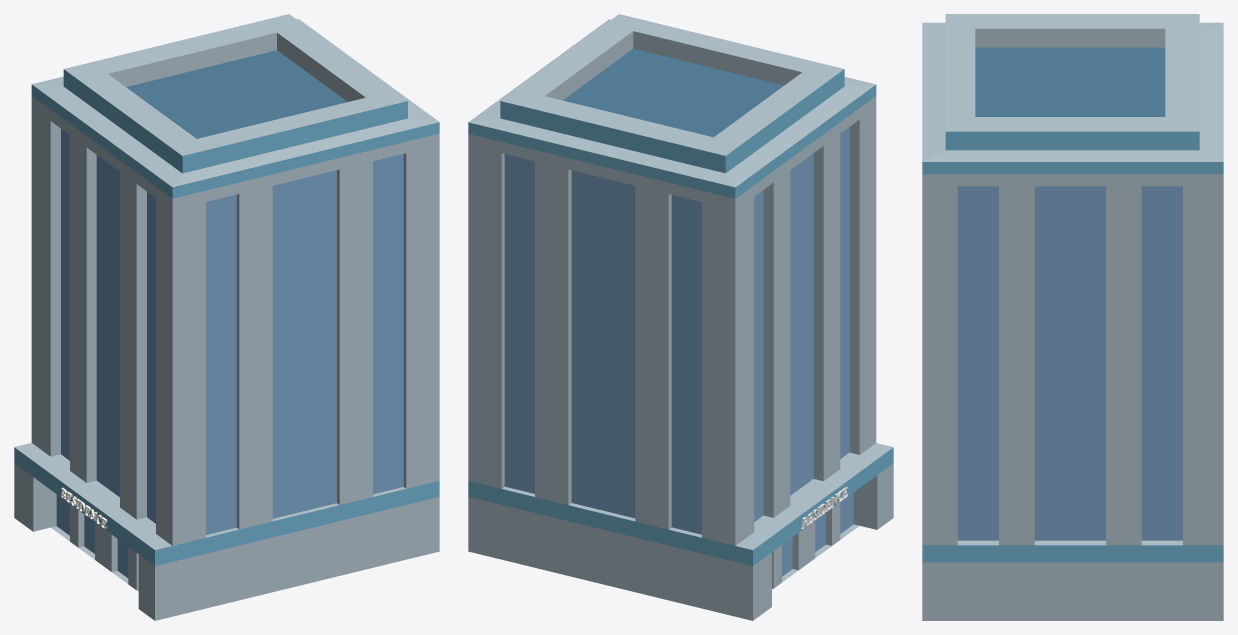
The model's file is apartment.glb.
3 renders of one model, left to right at view 1: azimuth 30°, elevation 25°; view 2: azimuth 150°, elevation 25°; view 3: azimuth 270°, elevation 25°, orthographic. The views are drawn at different scales.
Parts seen in each view (by area): view 1: Cube.002; view 2: Cube.002; view 3: Cube.002.
Boxes of the visible parts, x1,y1,x2,y2 form: Cube.002: [14, 14, 439, 620]; Cube.002: [468, 14, 893, 620]; Cube.002: [922, 14, 1223, 620].
Size of the model in its own units: 7.51 by 11.2 by 6.39.
